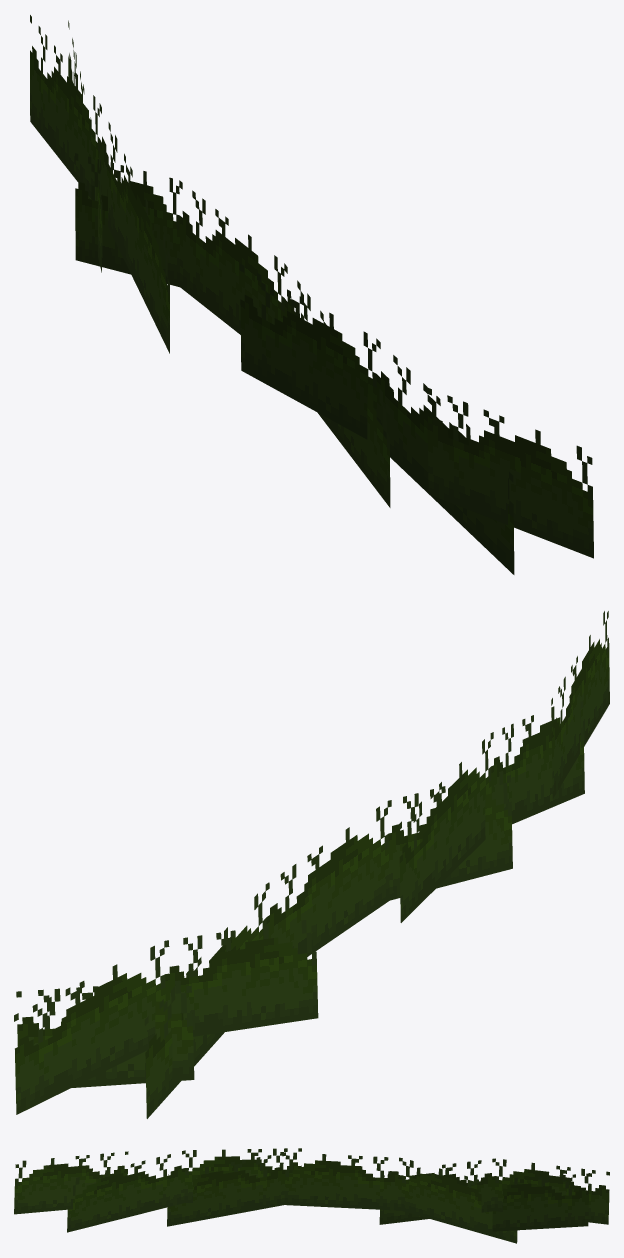
Rendered from TreeWall.glb.
3 views of the same model, one above another, from view 1: azimuth 30°, elevation 25°; view 2: azimuth 150°, elevation 25°; view 3: azimuth 270°, elevation 25° (orthographic). The views are drawn at different scales.
Visible parts, largest first — view 1: Plane; view 2: Plane; view 3: Plane.
Boxes of the visible parts, x1,y1,x2,y2 form: Plane: (30,15,593,574); Plane: (14,611,609,1118); Plane: (14,1148,609,1243).
Bounding box in the file's own units: 2.29 × 3.25 × 20.38.
1 material, 1 textured.
